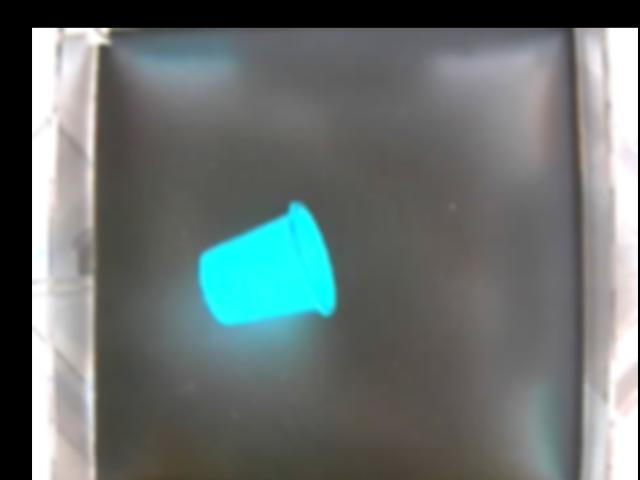Cup: (195, 201, 337, 329)
